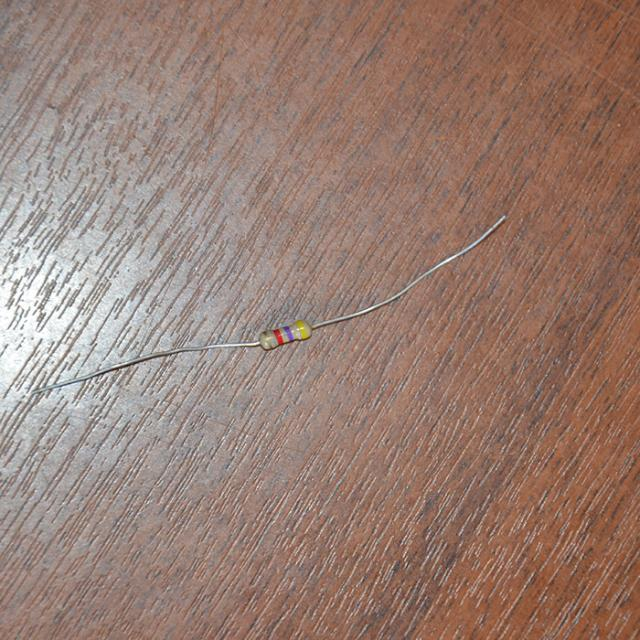gold: (263, 332, 273, 347)
red: (273, 328, 283, 345)
resistor: (247, 306, 327, 366)
violet: (283, 327, 293, 340)
yellow: (296, 320, 306, 338)
